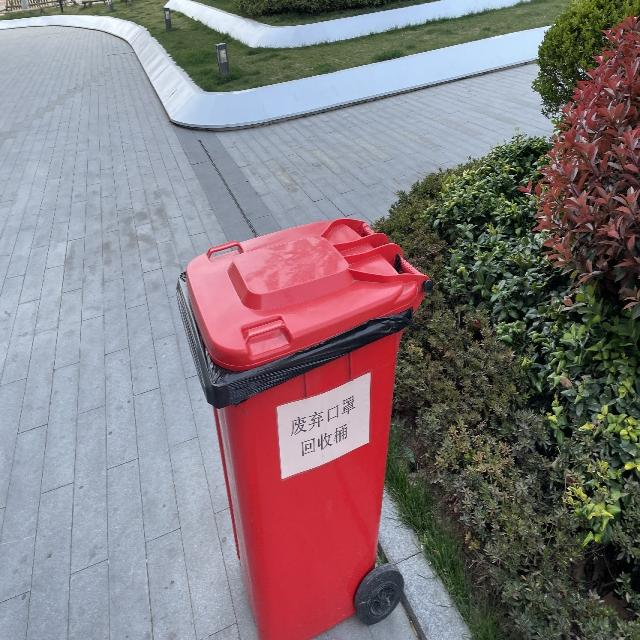garbage_bin: (175, 216, 432, 639)
